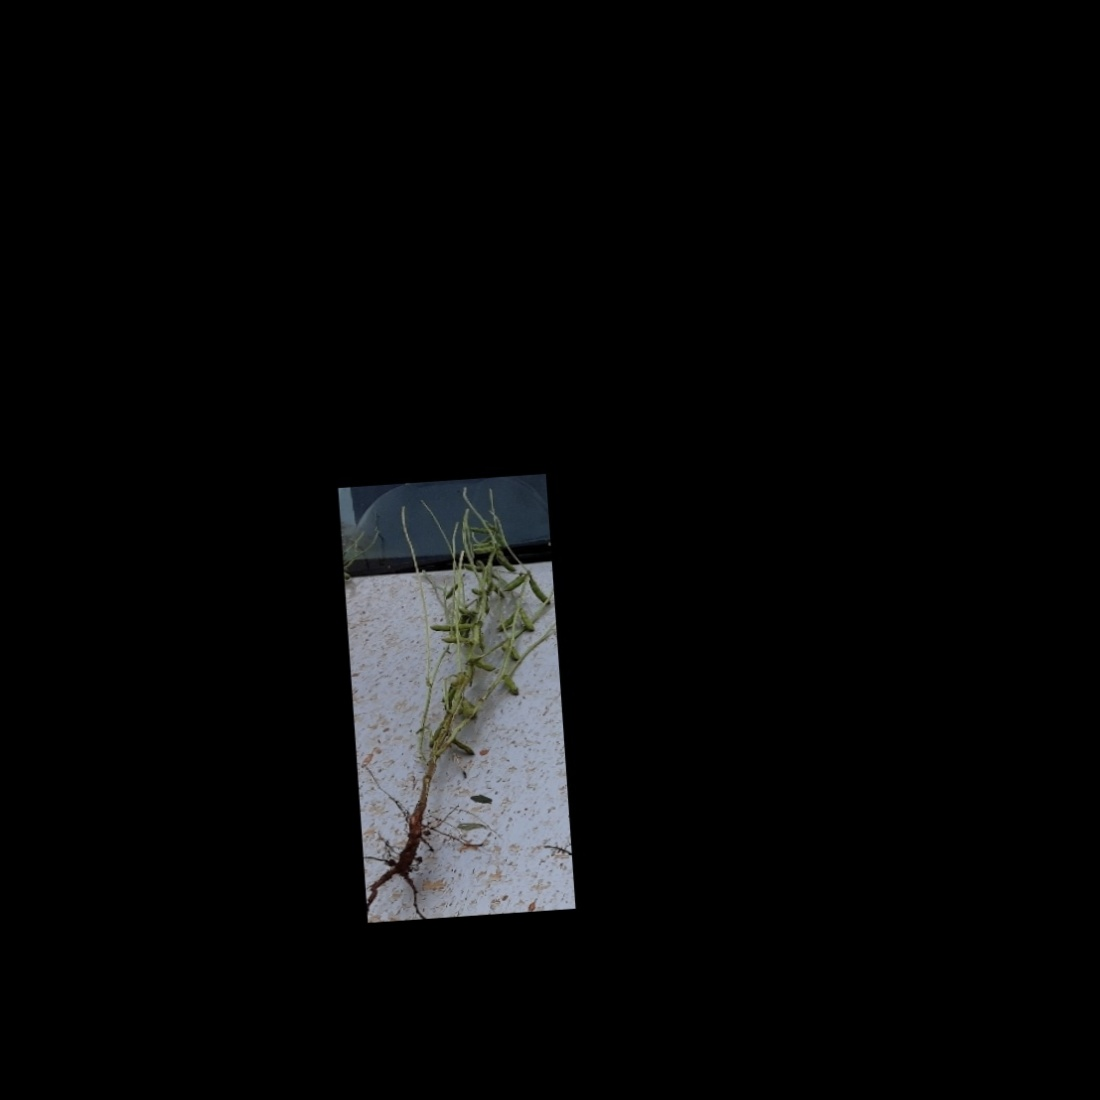pod: (449, 735, 482, 760), (527, 574, 550, 607), (498, 570, 530, 593), (516, 603, 538, 637), (502, 673, 521, 698), (470, 544, 499, 556)
soy: (345, 486, 570, 900)
